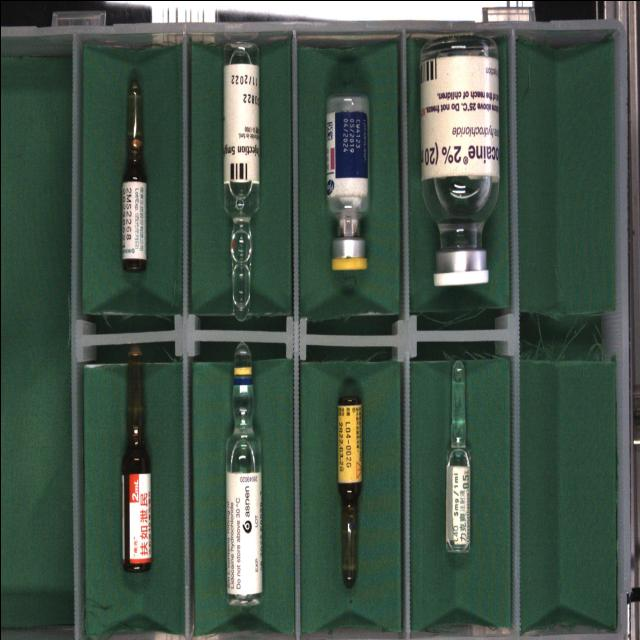Vials: (420, 35, 499, 285), (325, 93, 369, 270)
